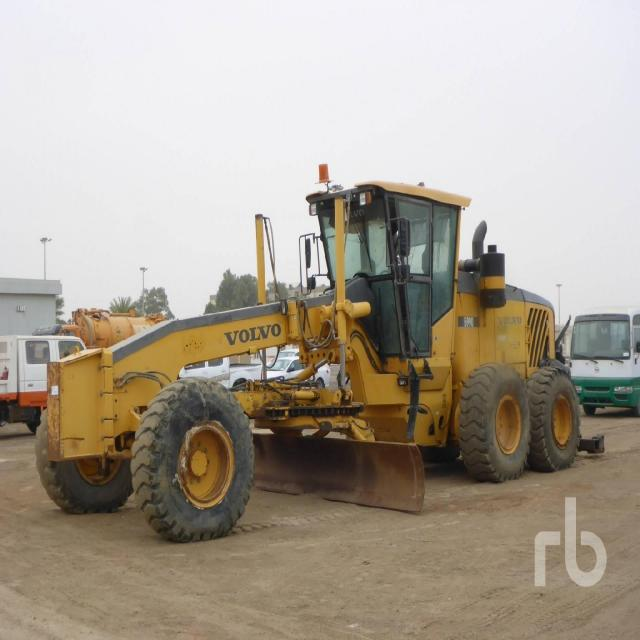Grader: (29, 166, 607, 535)
